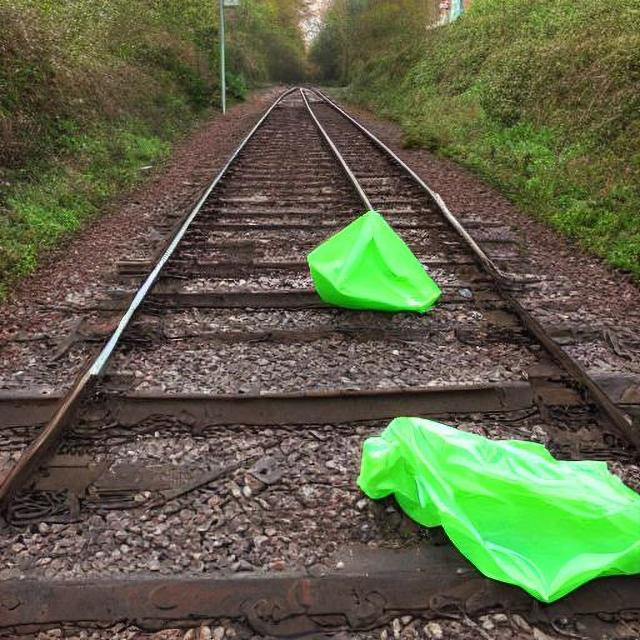plastic bag: (362, 412, 638, 602), (305, 207, 441, 313)
